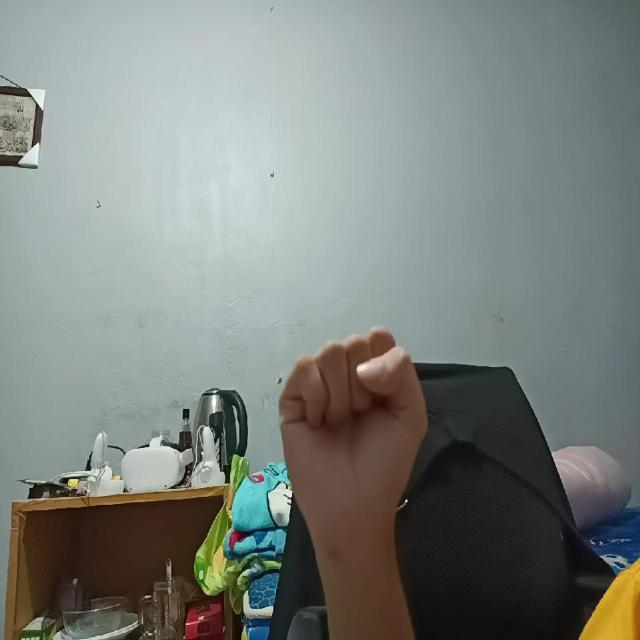fist: (274, 321, 430, 531)
